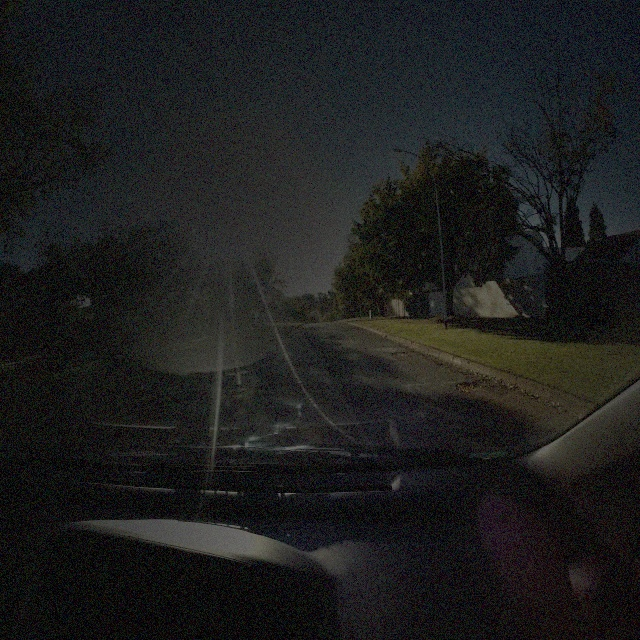pothole: (456, 380, 484, 394), (391, 349, 414, 357)
